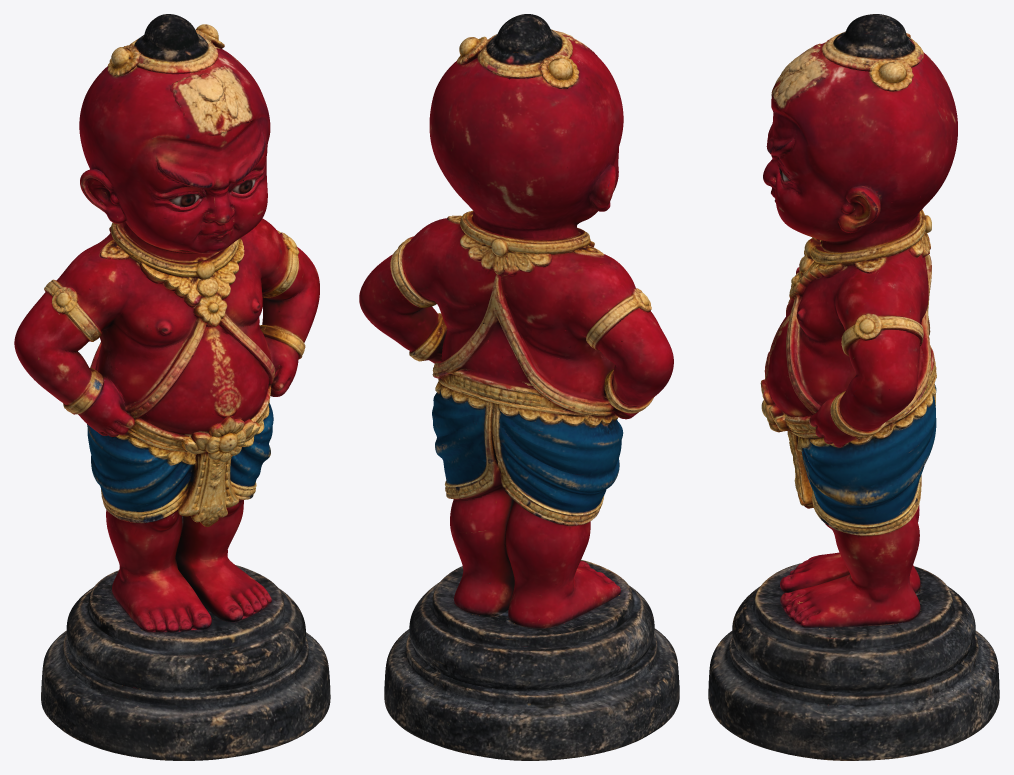
File: kumanred.glb
3 views of the same model, side by side, from view 1: azimuth 30°, elevation 25°; view 2: azimuth 150°, elevation 25°; view 3: azimuth 270°, elevation 25° (orthographic). The views are drawn at different scales.
Visible parts, largest first — view 1: kumanred_near, kumanred_far; view 2: kumanred_near, kumanred_far; view 3: kumanred_near, kumanred_far.
Part boxes in pixels (box(x1,y1,x2,y2)): kumanred_near: box(14, 14, 330, 760); kumanred_far: box(15, 14, 330, 760); kumanred_near: box(359, 14, 679, 760); kumanred_far: box(362, 14, 676, 760); kumanred_near: box(708, 14, 999, 760); kumanred_far: box(709, 14, 998, 760).
Size of the model in its own units: 0.46 by 1 by 0.3858.
Materials: 1 (1 with a texture image).
